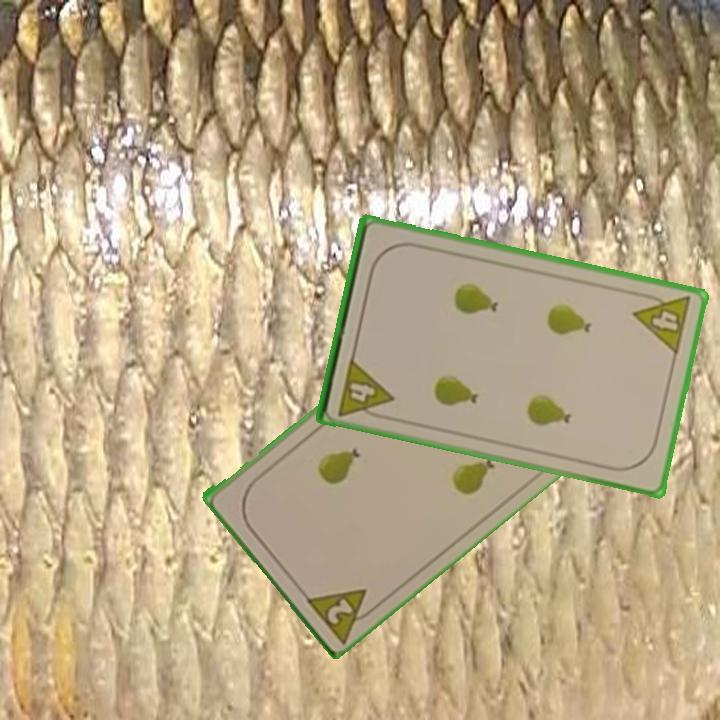2p: (300, 583, 383, 644)
4p: (630, 288, 695, 358), (334, 354, 396, 423)
